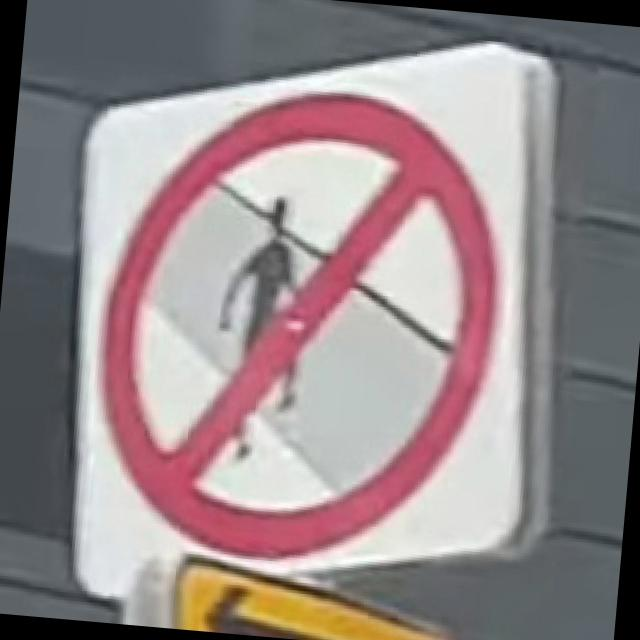nojaywalking_sign: (36, 0, 586, 632)
